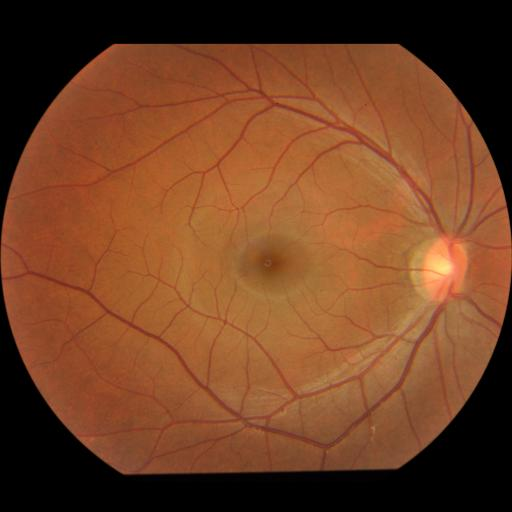Optic Cup: (431, 254, 454, 282)
Optic Disc: (410, 234, 468, 303)
